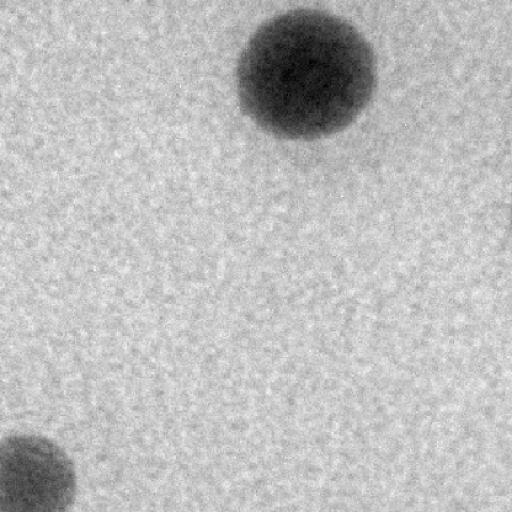Nanoparticles: (236, 10, 381, 149), (0, 436, 72, 512)
